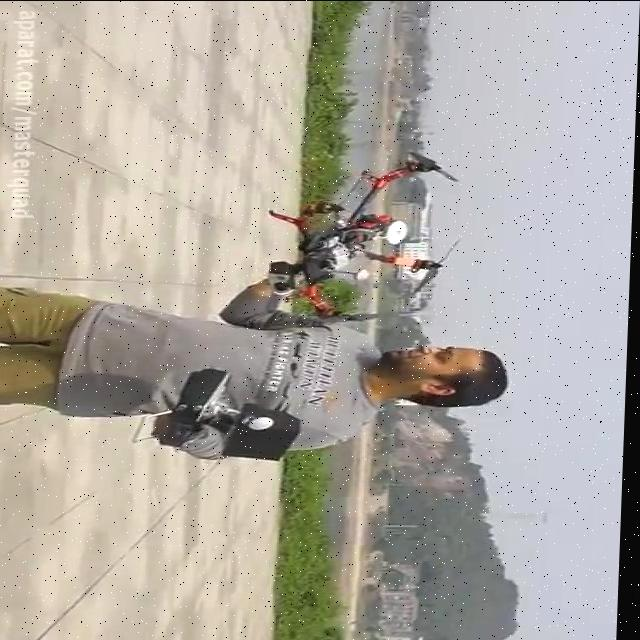drone: (262, 145, 472, 327)
